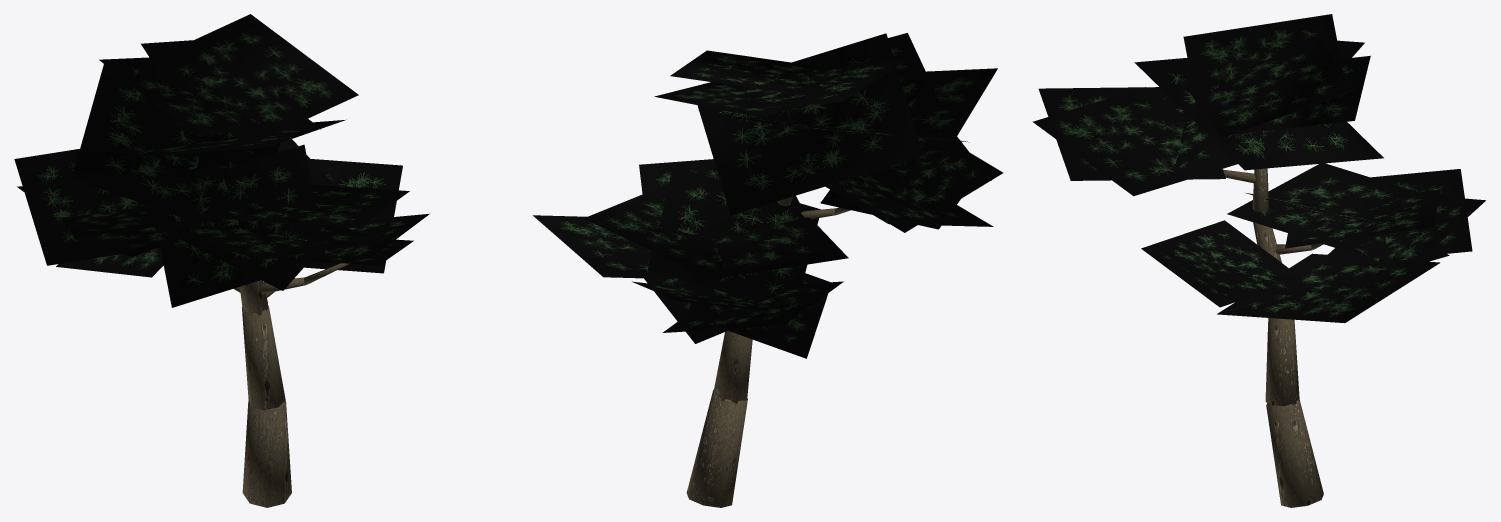
Rendered from pine.glb.
The picture shows the model from 3 angles, left to right: view 1: azimuth 30°, elevation 25°; view 2: azimuth 150°, elevation 25°; view 3: azimuth 270°, elevation 25°; orthographic projection. The views are drawn at different scales.
Visible parts, largest first — view 1: needles, bark; view 2: needles, bark; view 3: needles, bark.
Boxes of the visible parts, x1=… form: needles: x1=14, y1=14, x2=429, y2=307; bark: x1=233, y1=263, x2=349, y2=507; needles: x1=533, y1=33, x2=1003, y2=358; bark: x1=686, y1=196, x2=850, y2=507; needles: x1=1032, y1=14, x2=1485, y2=322; bark: x1=1223, y1=168, x2=1323, y2=507.
Bounding box in the file's own units: 6.72 × 7.11 × 6.86.
Materials: 2 (2 with a texture image).
